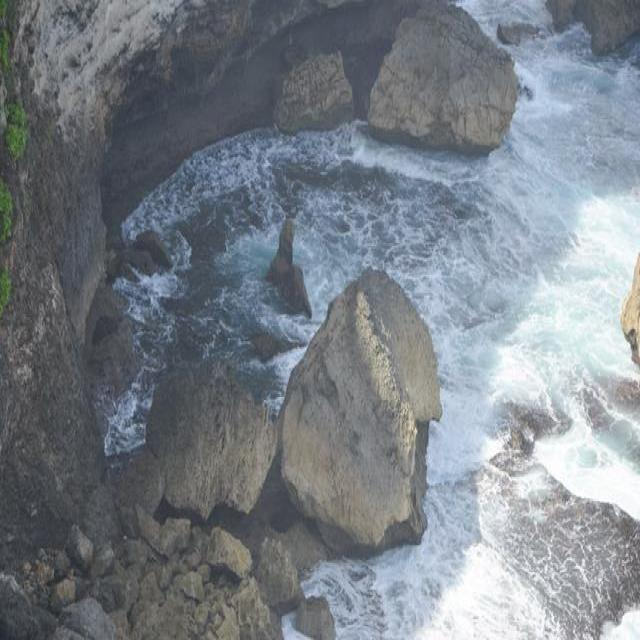reef: (140, 279, 436, 588)
